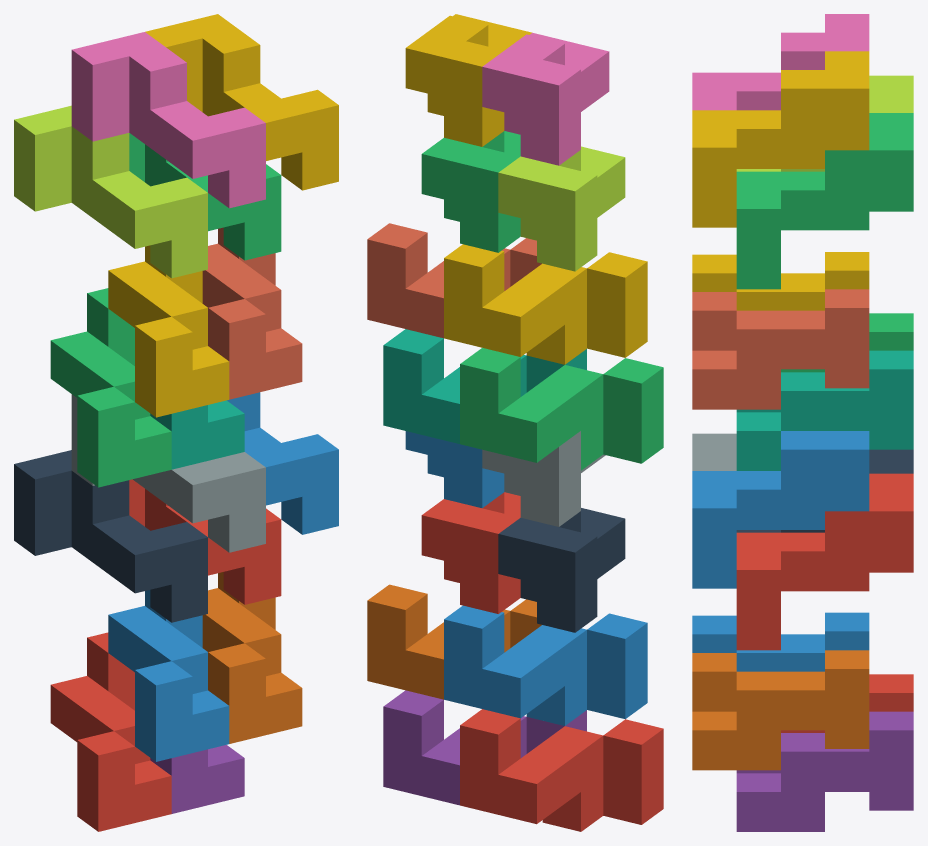
File: tiling.obj
The picture shows the model from 3 angles, left to right: view 1: azimuth 30°, elevation 25°; view 2: azimuth 150°, elevation 25°; view 3: azimuth 270°, elevation 25°; orthographic projection. The views are drawn at different scales.
Visible parts, largest first — view 1: copy_2_domain_4, copy_2_domain_3, copy_2_domain_1, copy_2_domain_8, copy_1_domain_3, copy_1_domain_1, copy_1_domain_2, copy_1_domain_4, copy_1_domain_8, copy_1_domain_6, copy_2_domain_2, copy_2_domain_6 (+4 smaller); view 2: copy_1_domain_1, copy_1_domain_4, copy_1_domain_2, copy_1_domain_3, copy_2_domain_4, copy_2_domain_3, copy_2_domain_1, copy_2_domain_8, copy_1_domain_5, copy_1_domain_7, copy_1_domain_6, copy_1_domain_8 (+4 smaller); view 3: copy_1_domain_8, copy_1_domain_6, copy_2_domain_8, copy_2_domain_5, copy_2_domain_7, copy_2_domain_6, copy_1_domain_5, copy_1_domain_7, copy_2_domain_4, copy_1_domain_2, copy_1_domain_4, copy_2_domain_3 (+4 smaller).
Part boxes in pixels (bbox=[...]): copy_2_domain_4: bbox=[71, 32, 265, 208]; copy_2_domain_3: bbox=[14, 105, 207, 278]; copy_2_domain_1: bbox=[14, 450, 207, 622]; copy_2_domain_8: bbox=[145, 14, 338, 190]; copy_1_domain_3: bbox=[50, 288, 171, 487]; copy_1_domain_1: bbox=[50, 632, 171, 831]; copy_1_domain_2: bbox=[108, 590, 229, 761]; copy_1_domain_4: bbox=[108, 245, 229, 417]; copy_1_domain_8: bbox=[202, 227, 302, 399]; copy_1_domain_6: bbox=[202, 572, 302, 743]; copy_2_domain_2: bbox=[71, 394, 265, 552]; copy_2_domain_6: bbox=[227, 392, 338, 534]; copy_1_domain_1: bbox=[460, 709, 663, 831]; copy_1_domain_4: bbox=[444, 244, 647, 364]; copy_1_domain_2: bbox=[444, 605, 647, 725]; copy_1_domain_3: bbox=[460, 348, 663, 470]; copy_2_domain_4: bbox=[482, 32, 609, 165]; copy_2_domain_3: bbox=[498, 146, 625, 271]; copy_2_domain_1: bbox=[498, 508, 625, 632]; copy_2_domain_8: bbox=[405, 14, 531, 146]; copy_1_domain_5: bbox=[383, 690, 586, 805]; copy_1_domain_7: bbox=[383, 329, 586, 443]; copy_1_domain_6: bbox=[367, 584, 541, 699]; copy_1_domain_8: bbox=[367, 223, 541, 338]; copy_1_domain_8: bbox=[692, 289, 869, 409]; copy_1_domain_6: bbox=[692, 650, 869, 770]; copy_2_domain_8: bbox=[692, 51, 869, 227]; copy_2_domain_5: bbox=[736, 473, 913, 650]; copy_2_domain_7: bbox=[736, 113, 913, 289]; copy_2_domain_6: bbox=[692, 431, 869, 588]; copy_1_domain_5: bbox=[736, 711, 913, 831]; copy_1_domain_7: bbox=[736, 350, 913, 470]; copy_2_domain_4: bbox=[692, 14, 869, 110]; copy_1_domain_2: bbox=[692, 612, 869, 671]; copy_1_domain_4: bbox=[692, 252, 869, 310]; copy_2_domain_3: bbox=[736, 75, 913, 171].
Size of the model in its own units: 6 by 19 by 5.
